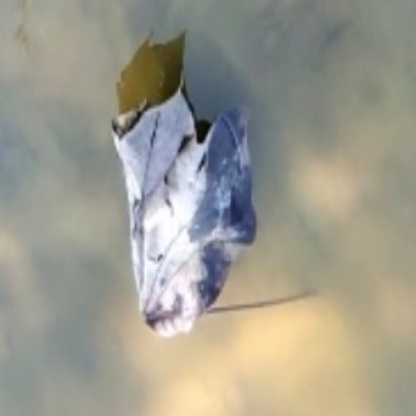leaf: (107, 80, 311, 337)
